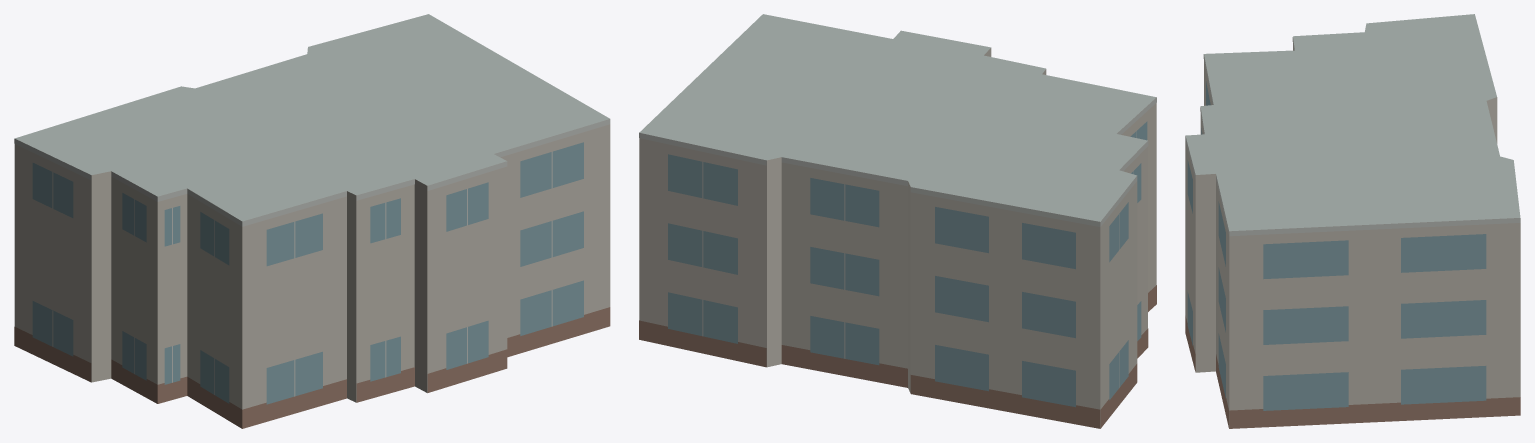
Rendered from survey-upis-33016200.glb.
3 views of the same model, side by side, from view 1: azimuth 30°, elevation 25°; view 2: azimuth 150°, elevation 25°; view 3: azimuth 270°, elevation 25° (orthographic). The views are drawn at different scales.
Visible parts, largest first — view 1: survey-upis-33016200.tmp; view 2: survey-upis-33016200.tmp; view 3: survey-upis-33016200.tmp.
Part boxes in pixels (x1=…): survey-upis-33016200.tmp: x1=14, y1=14, x2=610, y2=428; survey-upis-33016200.tmp: x1=639, y1=14, x2=1156, y2=428; survey-upis-33016200.tmp: x1=1185, y1=14, x2=1520, y2=428.
Bounding box in the file's own units: 22.4 × 9.5 × 14.6.
